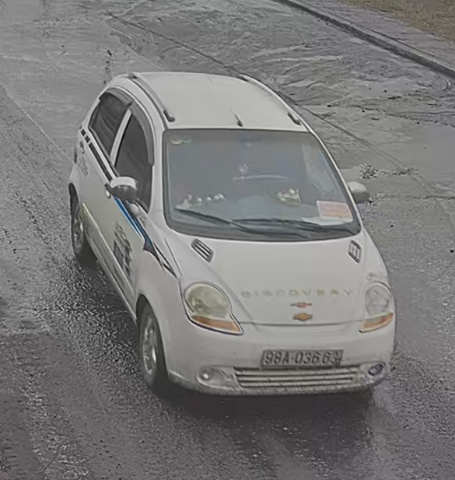vehicle plate: (256, 343, 354, 373)
